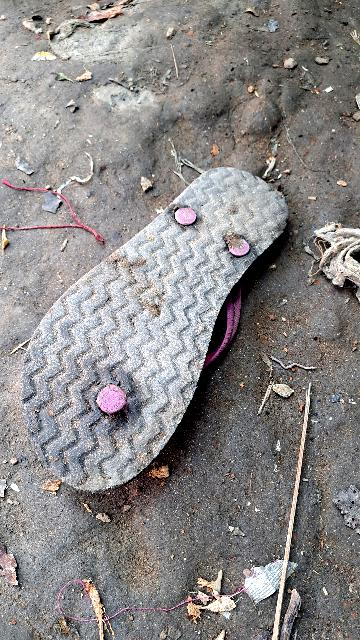sandal: (0, 151, 349, 531)
